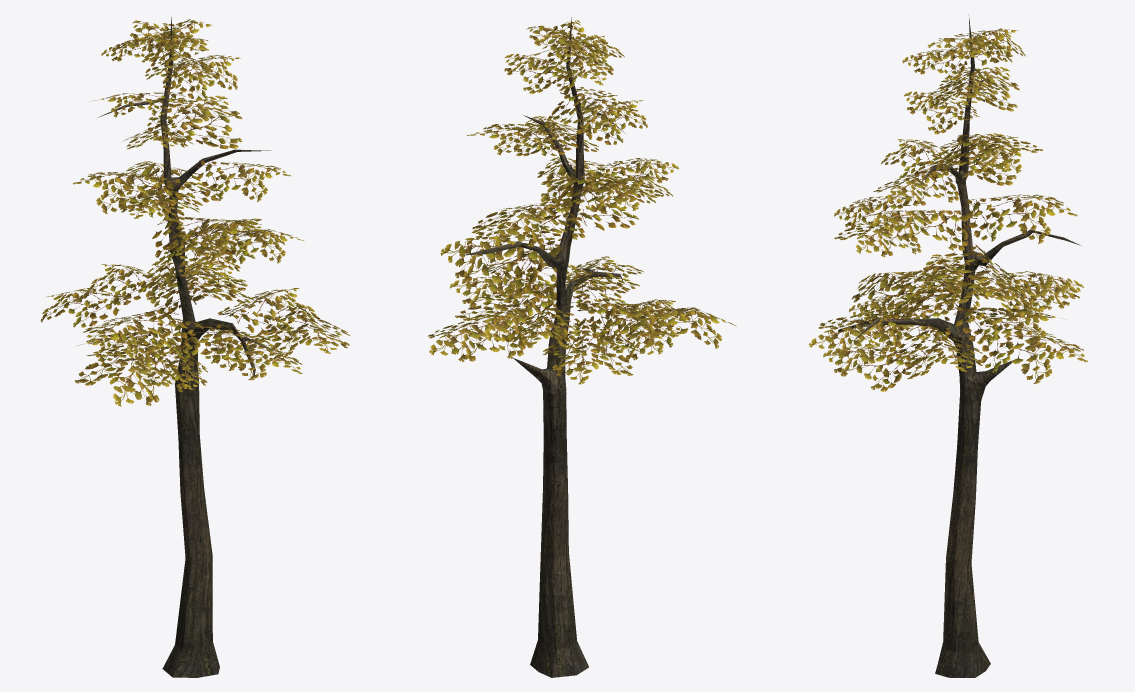
File: bg_anh_tree_ginkgotree01b_sm_ysi.FBX
The picture shows the model from 3 angles, left to right: view 1: azimuth 30°, elevation 25°; view 2: azimuth 150°, elevation 25°; view 3: azimuth 270°, elevation 25°; orthographic projection.
Parts seen in each view (by area): view 1: bg_anh_tree_ginkgotree01b_sm_ysi; view 2: bg_anh_tree_ginkgotree01b_sm_ysi; view 3: bg_anh_tree_ginkgotree01b_sm_ysi.
Boxes of the visible parts, left/top/right/bottom form: bg_anh_tree_ginkgotree01b_sm_ysi: left=40, top=17, right=350, bottom=677; bg_anh_tree_ginkgotree01b_sm_ysi: left=428, top=17, right=736, bottom=677; bg_anh_tree_ginkgotree01b_sm_ysi: left=808, top=14, right=1087, bottom=677.
Bounding box in the file's own units: 227 × 490 × 229.
